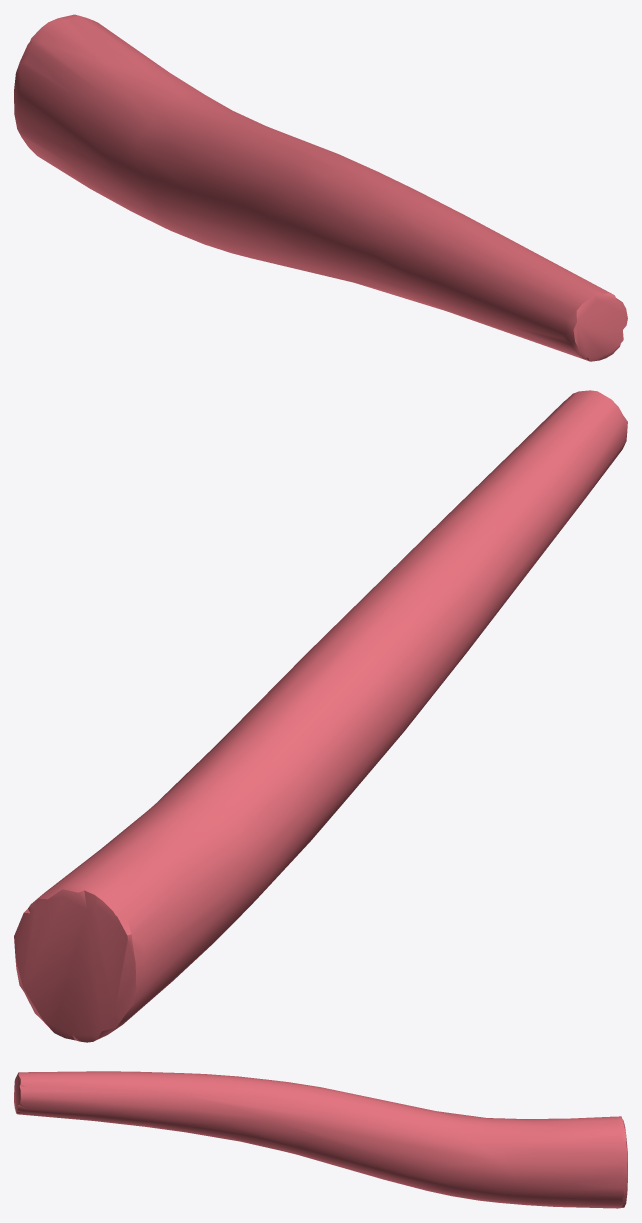
Rendered from fma68662_fj3016.glb.
3 renders of one model, top to bottom at view 1: azimuth 30°, elevation 25°; view 2: azimuth 150°, elevation 25°; view 3: azimuth 270°, elevation 25°, orthographic. The views are drawn at different scales.
Visible parts, largest first — view 1: FMA68662_FJ3016; view 2: FMA68662_FJ3016; view 3: FMA68662_FJ3016.
Boxes of the visible parts, x1=… form: FMA68662_FJ3016: x1=14, y1=14, x2=627, y2=361; FMA68662_FJ3016: x1=14, y1=390, x2=627, y2=1042; FMA68662_FJ3016: x1=14, y1=1071, x2=627, y2=1208.
Size of the model in its own units: 0.00339 by 0.0065 by 0.0263.
